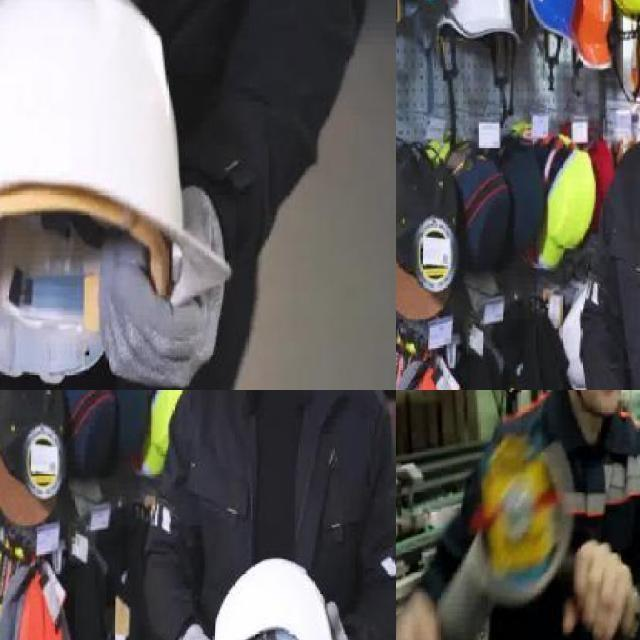apron: (97, 183, 228, 390), (314, 600, 361, 640)
